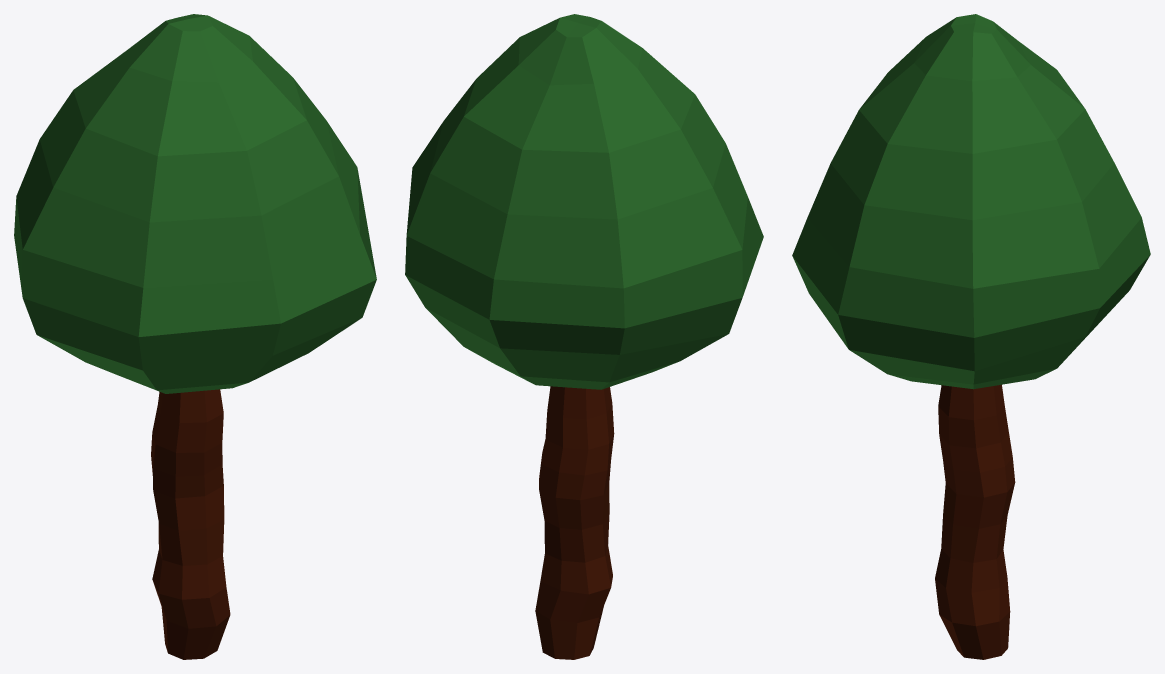
File: Arbol1_Blinn.fbx
The picture shows the model from 3 angles, left to right: view 1: azimuth 30°, elevation 25°; view 2: azimuth 150°, elevation 25°; view 3: azimuth 270°, elevation 25°; orthographic projection.
Visible parts, largest first — view 1: Arbol1:Mesh; view 2: Arbol1:Mesh; view 3: Arbol1:Mesh.
Part boxes in pixels (box(x1,y1,x2,y2)): Arbol1:Mesh: box(14, 14, 376, 659); Arbol1:Mesh: box(405, 14, 763, 659); Arbol1:Mesh: box(792, 14, 1150, 659).
Bounding box in the file's own units: 21.93 × 39.77 × 20.7.
